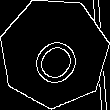O_NE: (21, 19, 87, 86)
